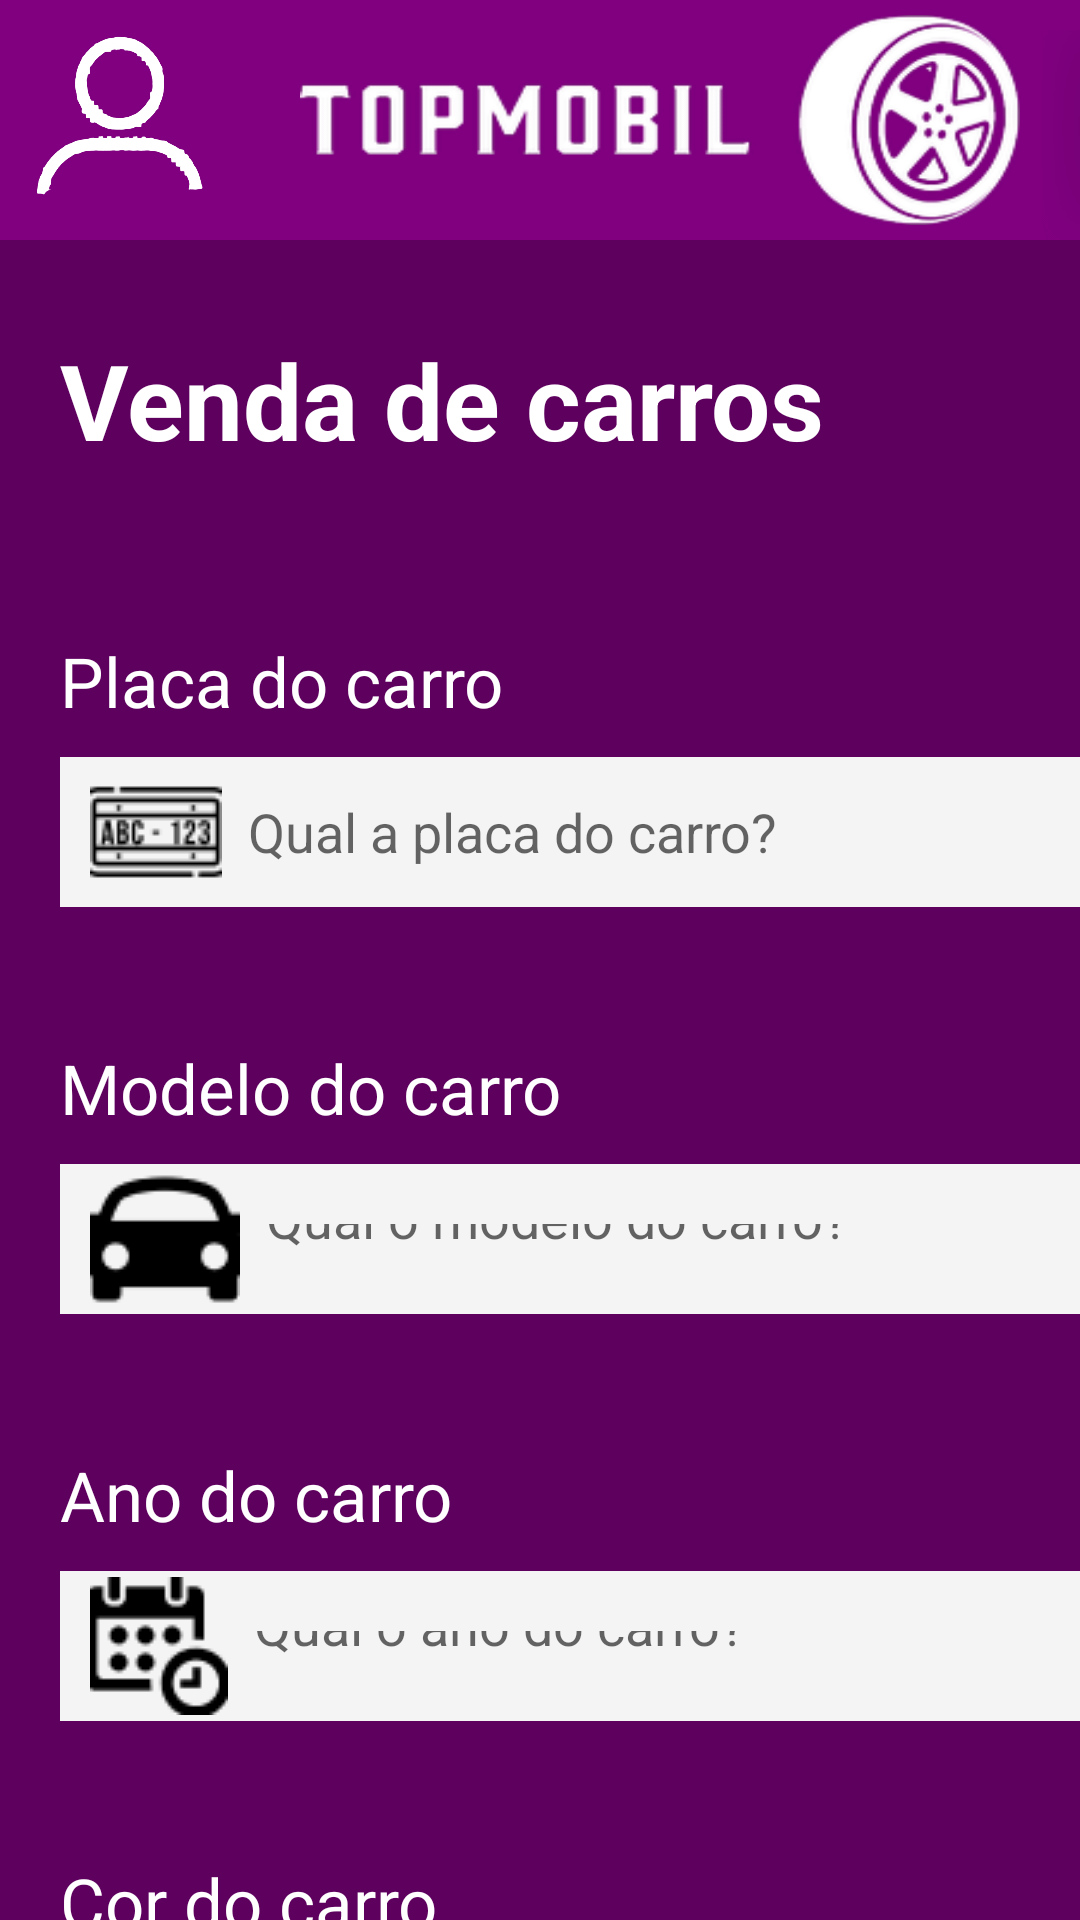

Screen size 1080x1920. Icon name, then its center in pixels as (x,y):
usuario: (120,116)
